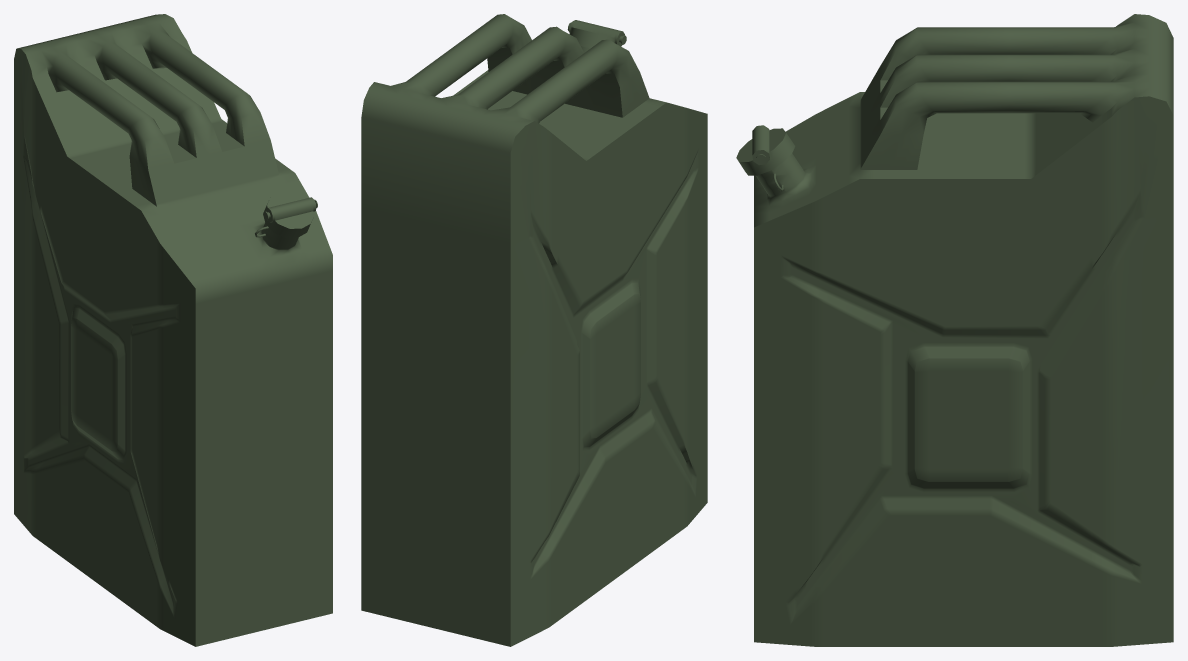
File: tanica.gltf
3 renders of one model, left to right at view 1: azimuth 30°, elevation 25°; view 2: azimuth 150°, elevation 25°; view 3: azimuth 270°, elevation 25°, orthographic. The views are drawn at different scales.
Parts seen in each view (by area): view 1: Buffer Object; view 2: Buffer Object; view 3: Buffer Object.
Part boxes in pixels (left/top/right/bottom): Buffer Object: left=14, top=14, right=332, bottom=646; Buffer Object: left=361, top=14, right=707, bottom=646; Buffer Object: left=736, top=14, right=1173, bottom=646.
Bounding box in the file's own units: 0.16 × 0.4699 × 0.3401.
